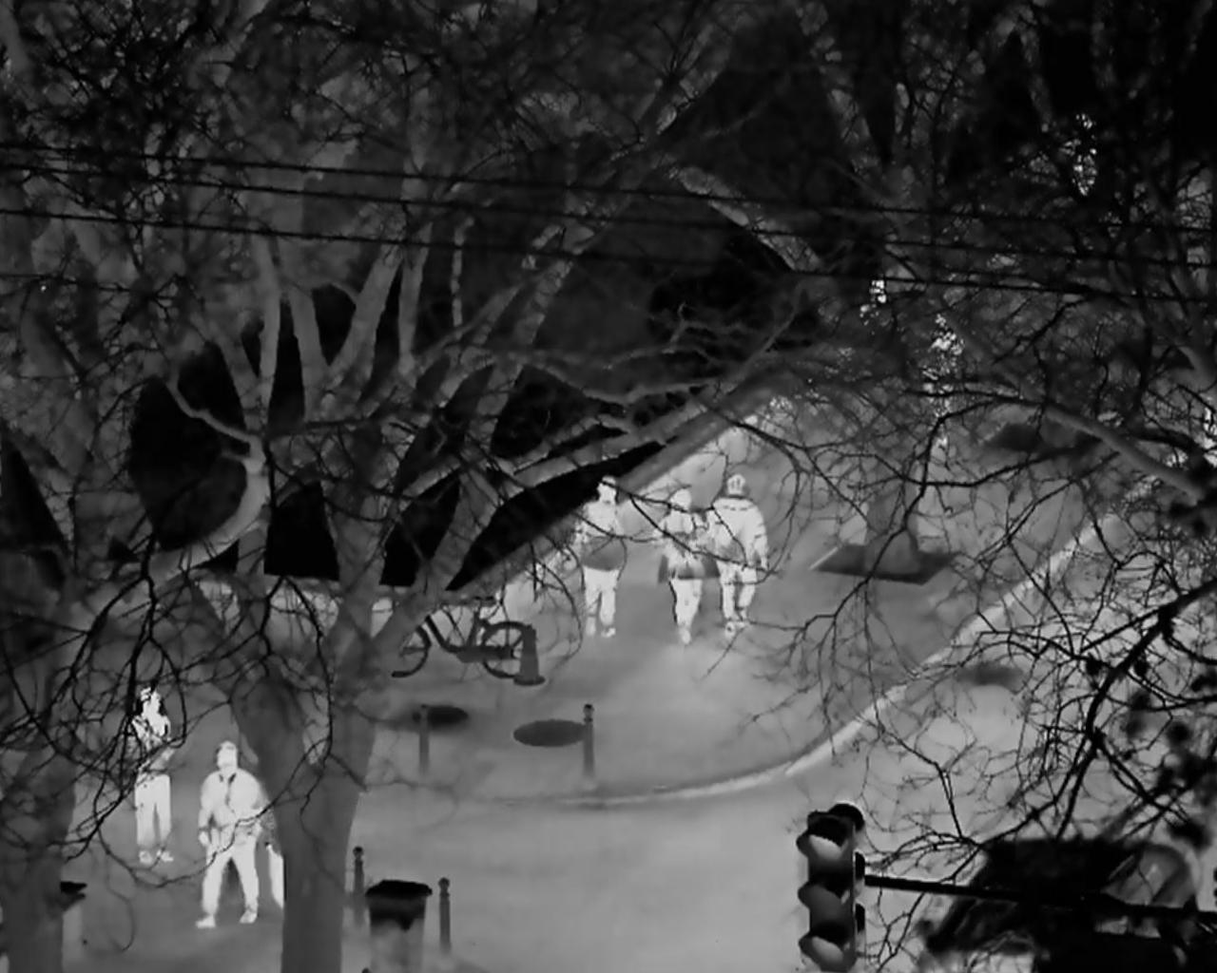person: (198, 739, 264, 926), (704, 471, 771, 639), (572, 474, 627, 640), (649, 490, 707, 643), (130, 691, 178, 865)
